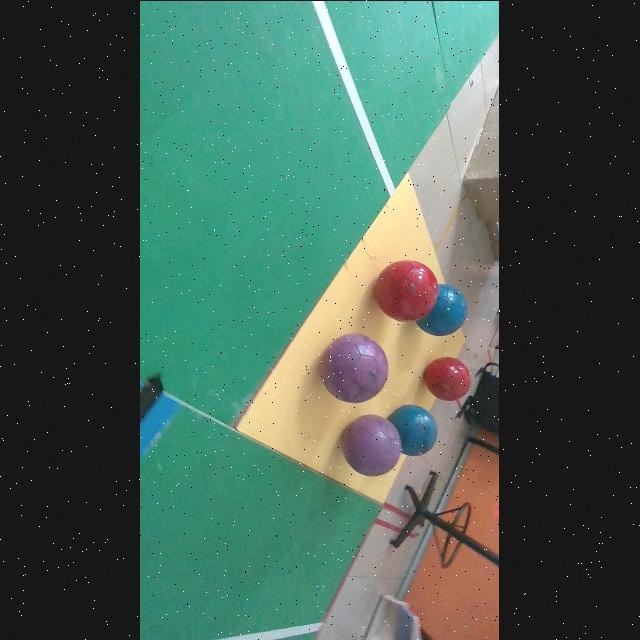B: (419, 284, 468, 335), (390, 404, 438, 454)
P: (321, 332, 389, 402), (342, 414, 402, 475)
R: (375, 259, 440, 321), (424, 356, 472, 399)
